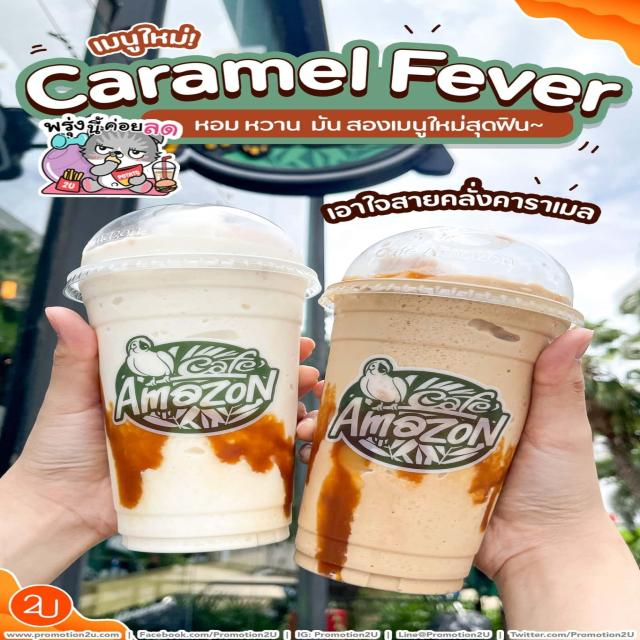cup: (294, 227, 584, 597), (68, 201, 326, 554)
